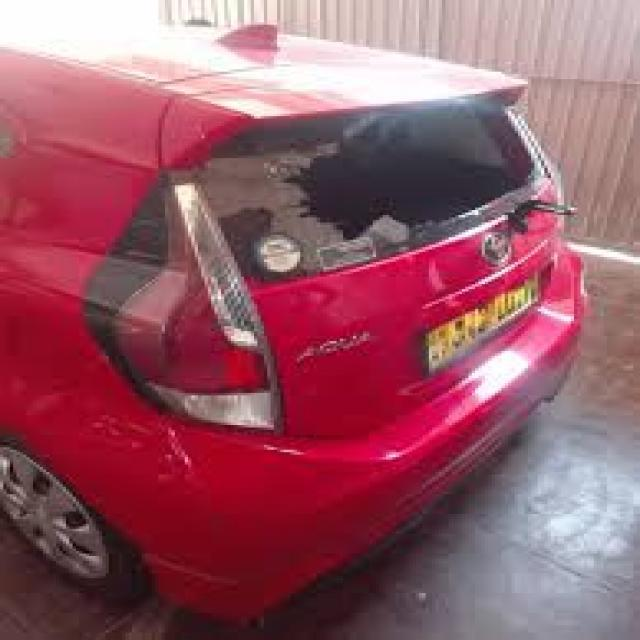damaged-rear-window: (185, 102, 550, 256)
